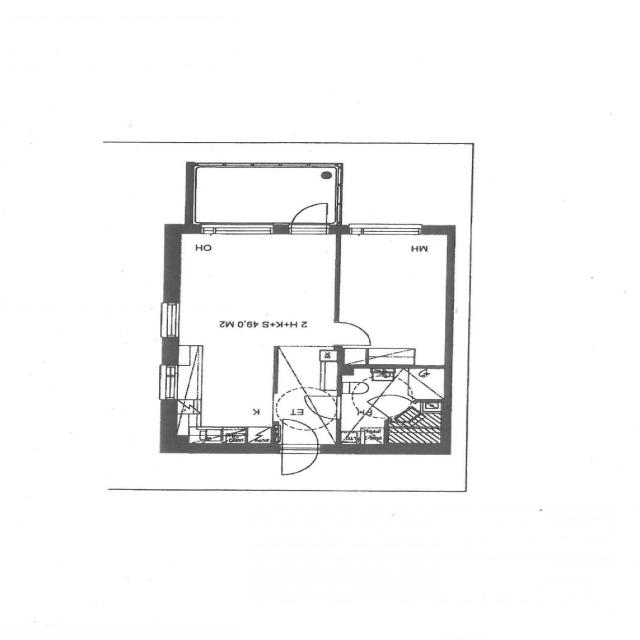door: (275, 413, 323, 478), (331, 317, 377, 349), (288, 199, 332, 229), (303, 392, 345, 419)
window: (198, 221, 279, 239), (348, 222, 428, 238), (156, 300, 185, 342), (156, 361, 183, 402)
zone: (172, 230, 338, 348), (336, 229, 453, 368), (173, 344, 277, 447), (336, 366, 445, 445)
